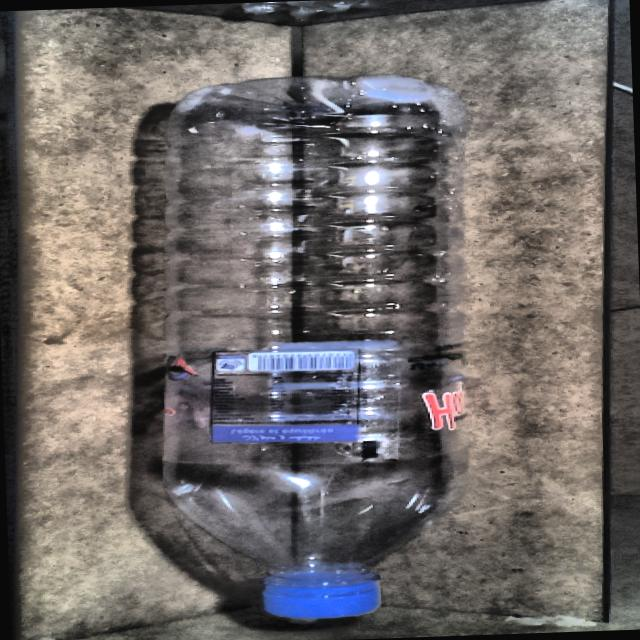plastic bottle: (164, 75, 462, 619)
